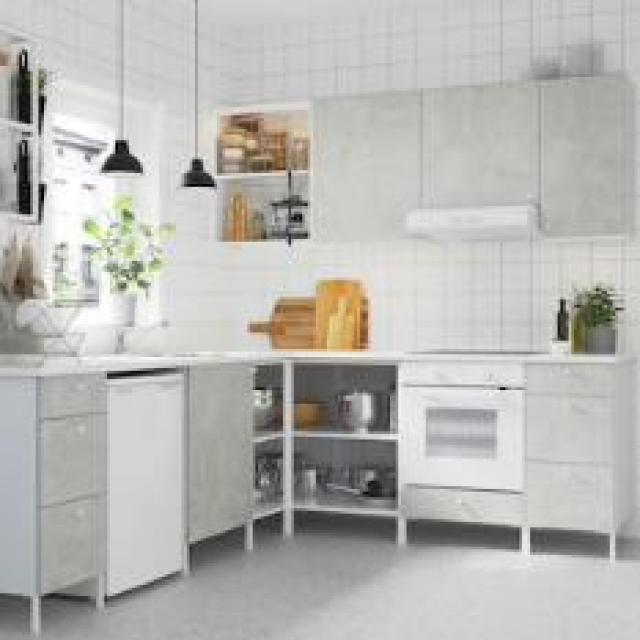dishwasher: (105, 365, 182, 599)
